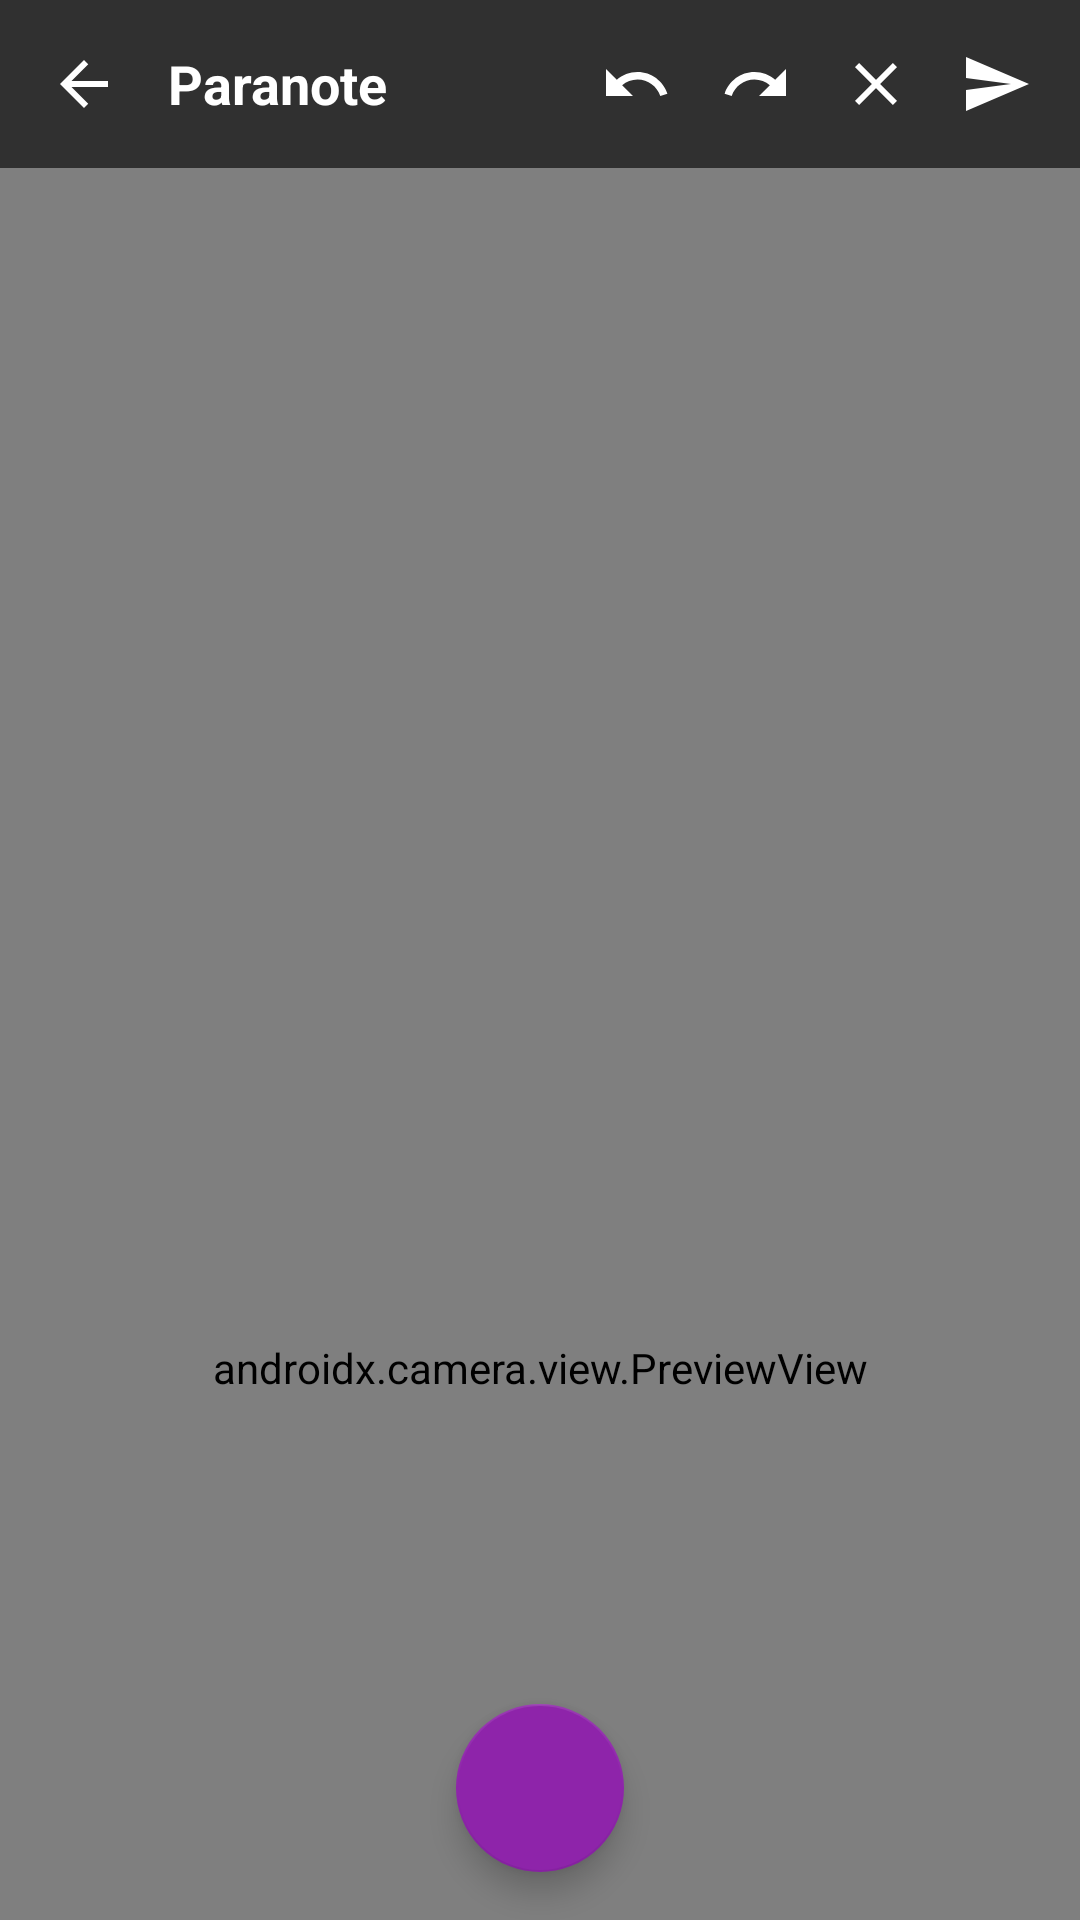

Icons on this 1080×1920 Android screen, each with its box as (x1, y1, x2, y2):
back: (60, 60, 108, 108)
close: (855, 63, 897, 105)
redo: (724, 69, 786, 96)
send: (966, 57, 1029, 111)
undo: (606, 69, 668, 96)
